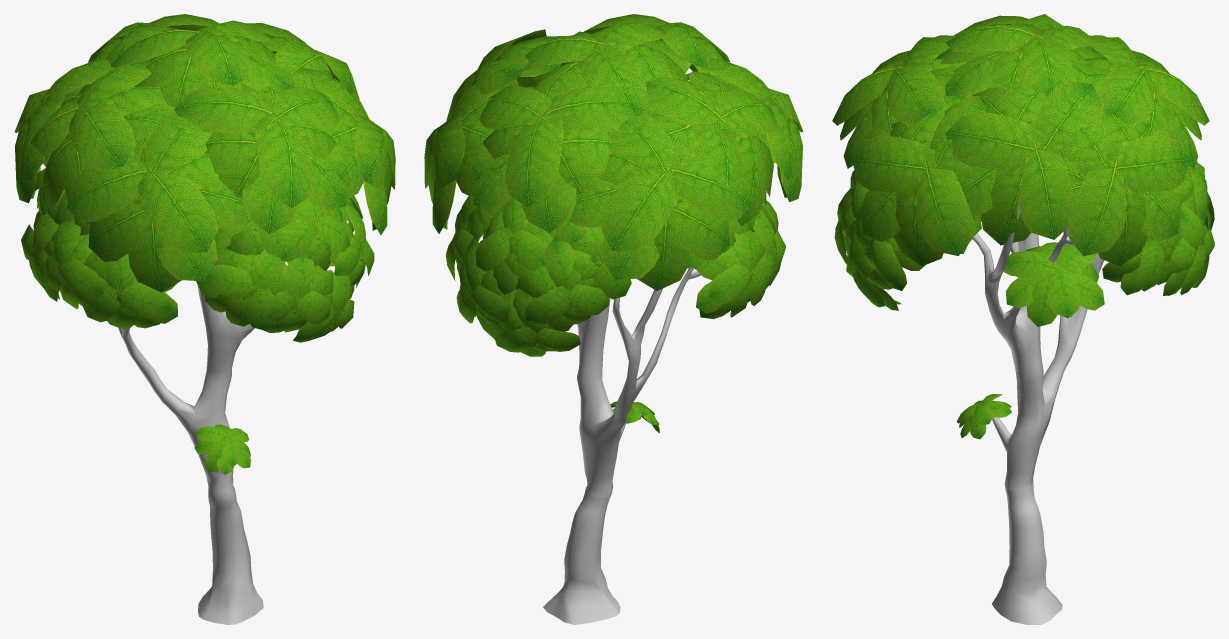
File: SwagTrad.fbx
3 views of the same model, side by side, from view 1: azimuth 30°, elevation 25°; view 2: azimuth 150°, elevation 25°; view 3: azimuth 270°, elevation 25° (orthographic). The views are drawn at different scales.
Parts seen in each view (by area): view 1: polySurface482; view 2: polySurface482; view 3: polySurface482.
Boxes of the visible parts, x1,y1,x2,y2 form: polySurface482: (14, 14, 395, 624); polySurface482: (424, 14, 803, 624); polySurface482: (832, 14, 1214, 624).
Size of the model in its own units: 13.81 by 24.68 by 14.99.
